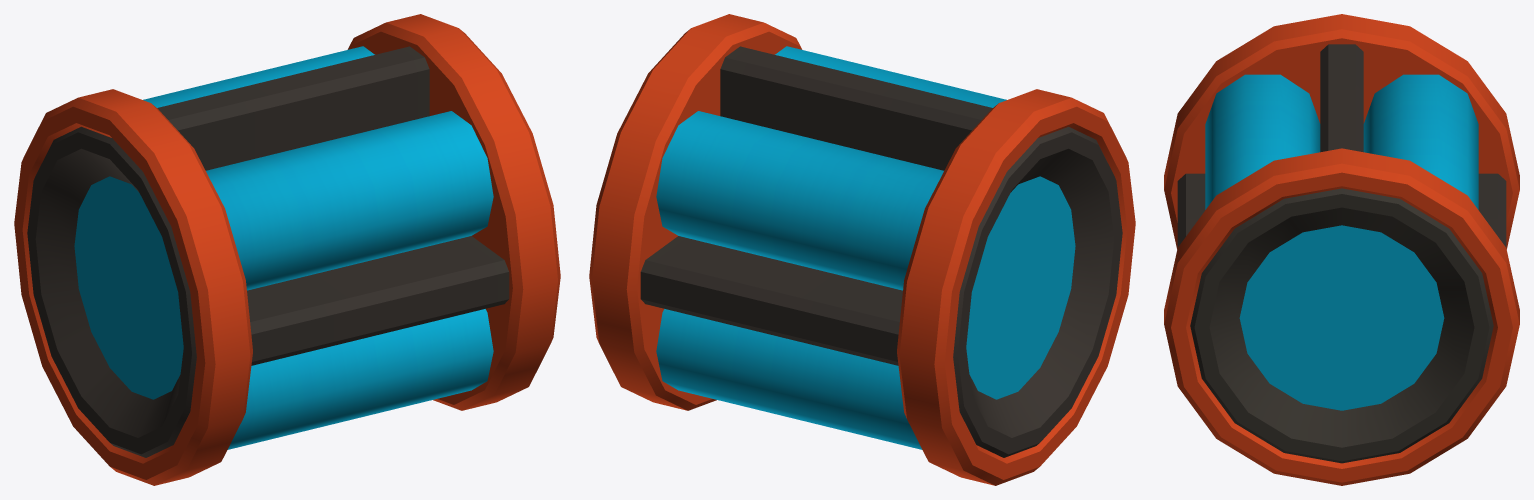
Rendered from SMG4_Magazine.fbx.
3 views of the same model, side by side, from view 1: azimuth 30°, elevation 25°; view 2: azimuth 150°, elevation 25°; view 3: azimuth 270°, elevation 25° (orthographic). The views are drawn at different scales.
Visible parts, largest first — view 1: SMG4_Magazine; view 2: SMG4_Magazine; view 3: SMG4_Magazine.
Boxes of the visible parts, box(x1,y1,x2,y2) form: SMG4_Magazine: box(14, 14, 560, 485); SMG4_Magazine: box(589, 14, 1135, 485); SMG4_Magazine: box(1164, 14, 1519, 485).
Size of the model in its own units: 6.4 by 6.2 by 6.2.
